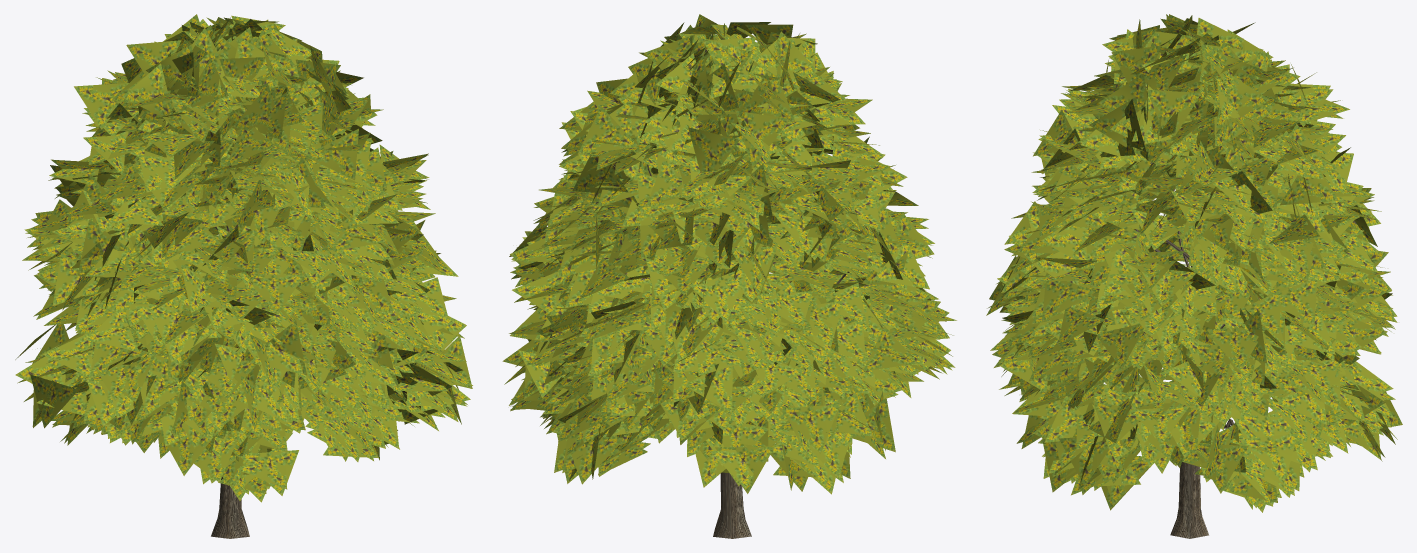
The model's file is Sassafras_Albidum_Spring_Adult.glb.
The picture shows the model from 3 angles, left to right: view 1: azimuth 30°, elevation 25°; view 2: azimuth 150°, elevation 25°; view 3: azimuth 270°, elevation 25°; orthographic projection.
Parts seen in each view (by area): view 1: Sassafras_Albidum_Spring_Adult__LOD3; view 2: Sassafras_Albidum_Spring_Adult__LOD3; view 3: Sassafras_Albidum_Spring_Adult__LOD3.
Boxes of the visible parts, x1,y1,x2,y2 form: Sassafras_Albidum_Spring_Adult__LOD3: (15, 14, 472, 538); Sassafras_Albidum_Spring_Adult__LOD3: (502, 14, 956, 538); Sassafras_Albidum_Spring_Adult__LOD3: (986, 14, 1402, 538).
Size of the model in its own units: 12.32 by 15.04 by 11.27.
Materials: 2 (2 with a texture image).
